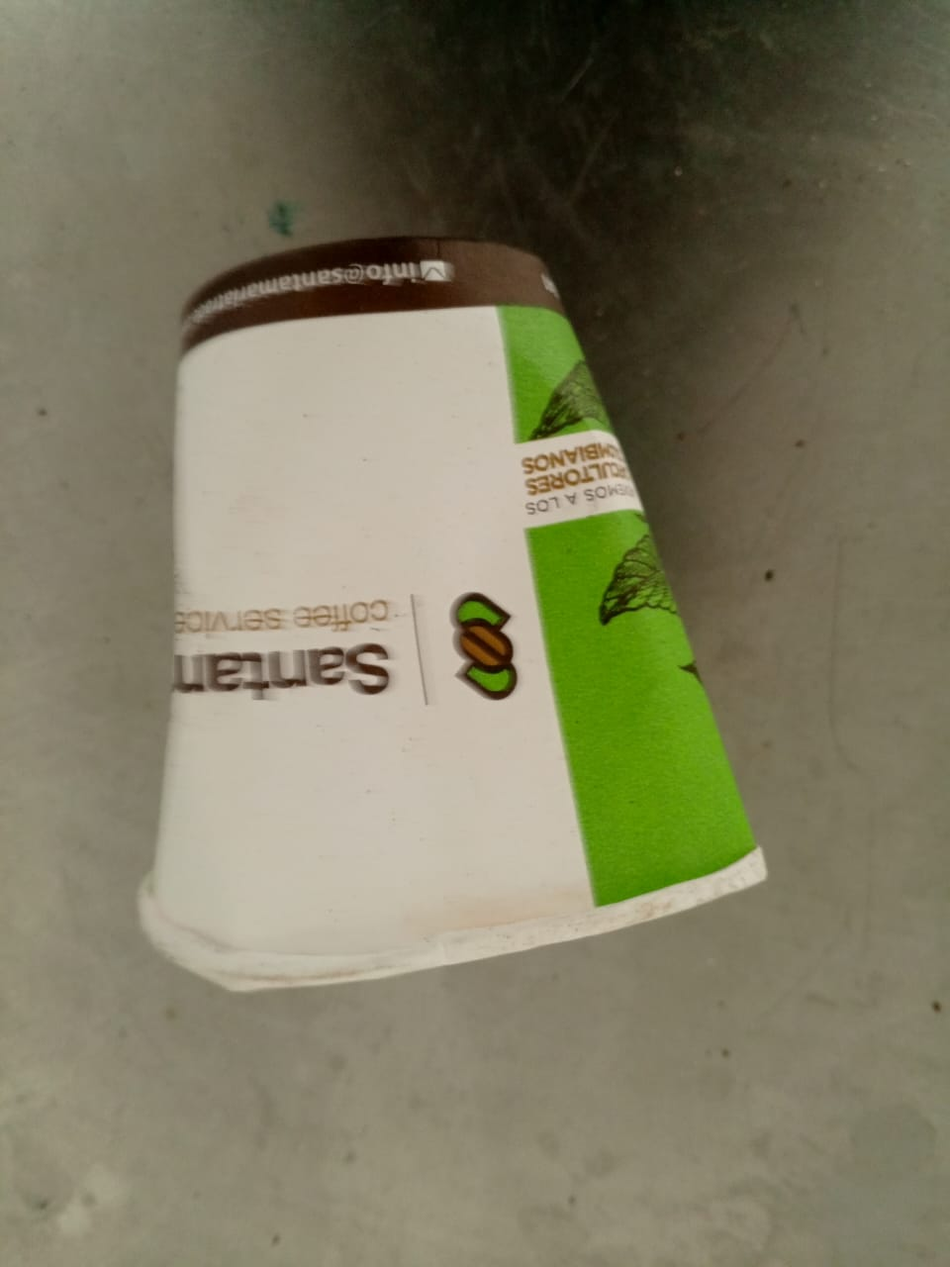Carton: (124, 239, 768, 993)
